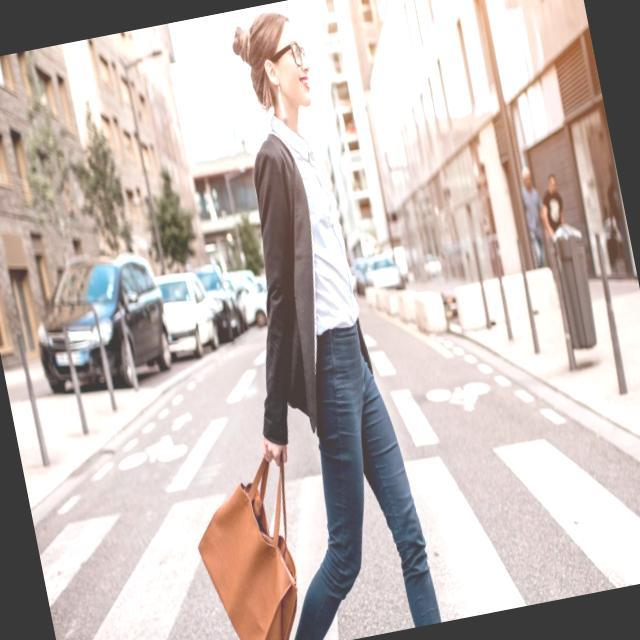person: (166, 0, 437, 640)
